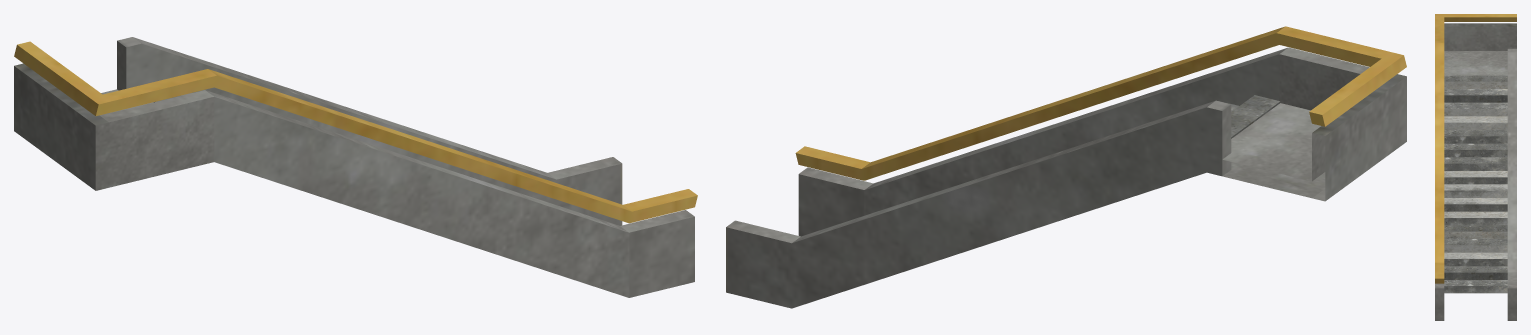
The model's file is WalkingBridge1.fbx.
3 views of the same model, side by side, from view 1: azimuth 30°, elevation 25°; view 2: azimuth 150°, elevation 25°; view 3: azimuth 270°, elevation 25° (orthographic). The views are drawn at different scales.
Parts seen in each view (by area): view 1: WalkingBridge1; view 2: WalkingBridge1; view 3: WalkingBridge1.
Part boxes in pixels (left/top/right/bottom): WalkingBridge1: left=14, top=37, right=697, bottom=297; WalkingBridge1: left=726, top=26, right=1406, bottom=308; WalkingBridge1: left=1435, top=14, right=1516, bottom=320.
Bounding box in the file's own units: 238 × 1014 × 520.
